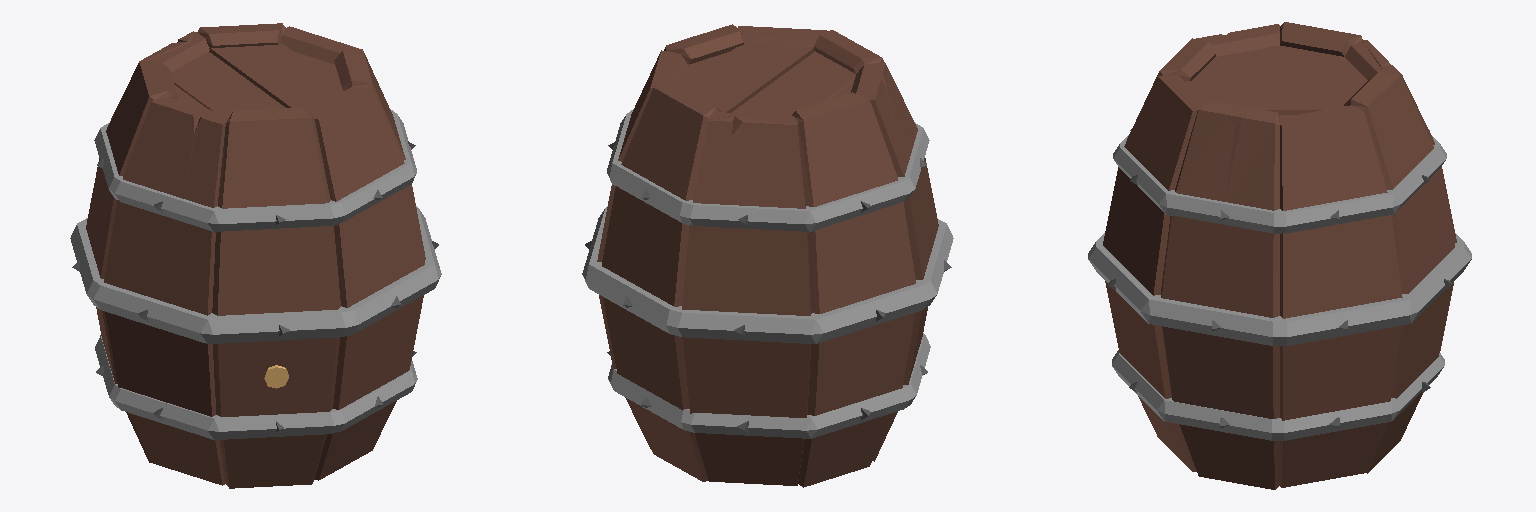
The picture shows the model from 3 angles: view 1: azimuth 30°, elevation 25°; view 2: azimuth 150°, elevation 25°; view 3: azimuth 270°, elevation 25°; orthographic projection.
Parts seen in each view (by area): view 1: Cube_Cube.002; view 2: Cube_Cube.002; view 3: Cube_Cube.002.
Boxes of the visible parts, x1,y1,x2,y2 form: Cube_Cube.002: [70, 23, 441, 488]; Cube_Cube.002: [582, 24, 953, 487]; Cube_Cube.002: [1088, 22, 1471, 489].
Size of the model in its own units: 4.66 by 4.97 by 4.66.
1 materials, 1 textured.